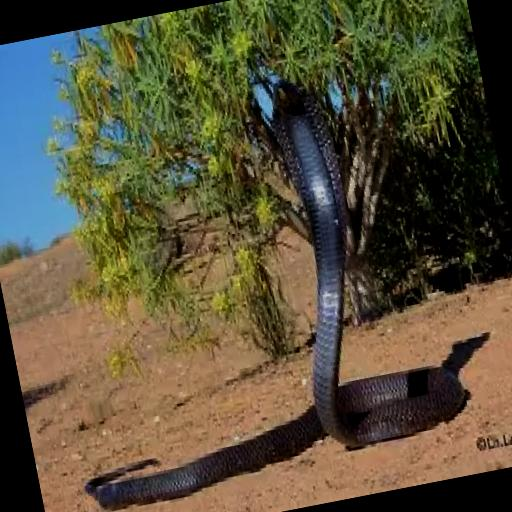snake: (86, 82, 465, 509)
